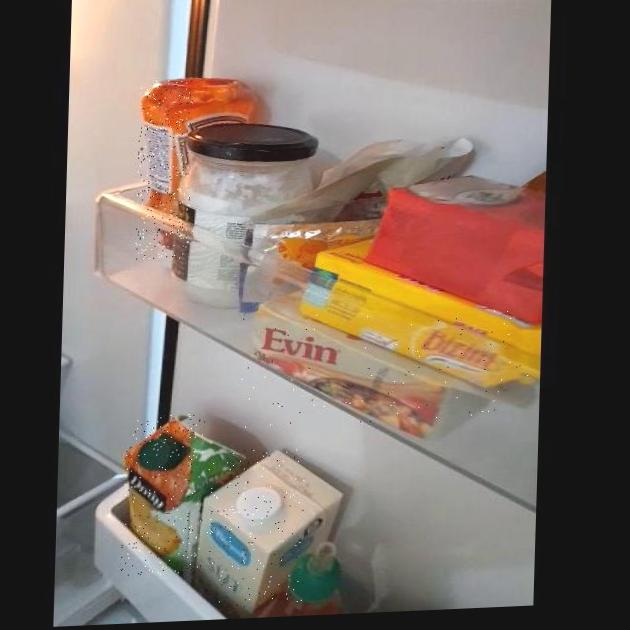butter: (240, 302, 530, 429)
juice: (121, 413, 206, 577)
milk: (205, 446, 307, 610)
sauce: (135, 79, 194, 261)
